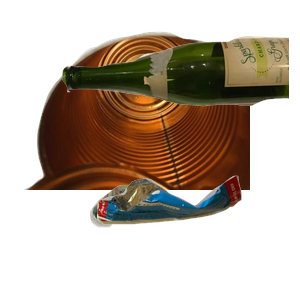glass: (60, 34, 300, 133)
metal: (21, 29, 261, 209)
plastic: (88, 182, 242, 300)
trash: (94, 173, 300, 300)
